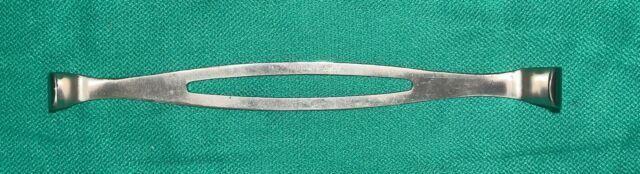Army Navy Retractor: (42, 46, 580, 137)
